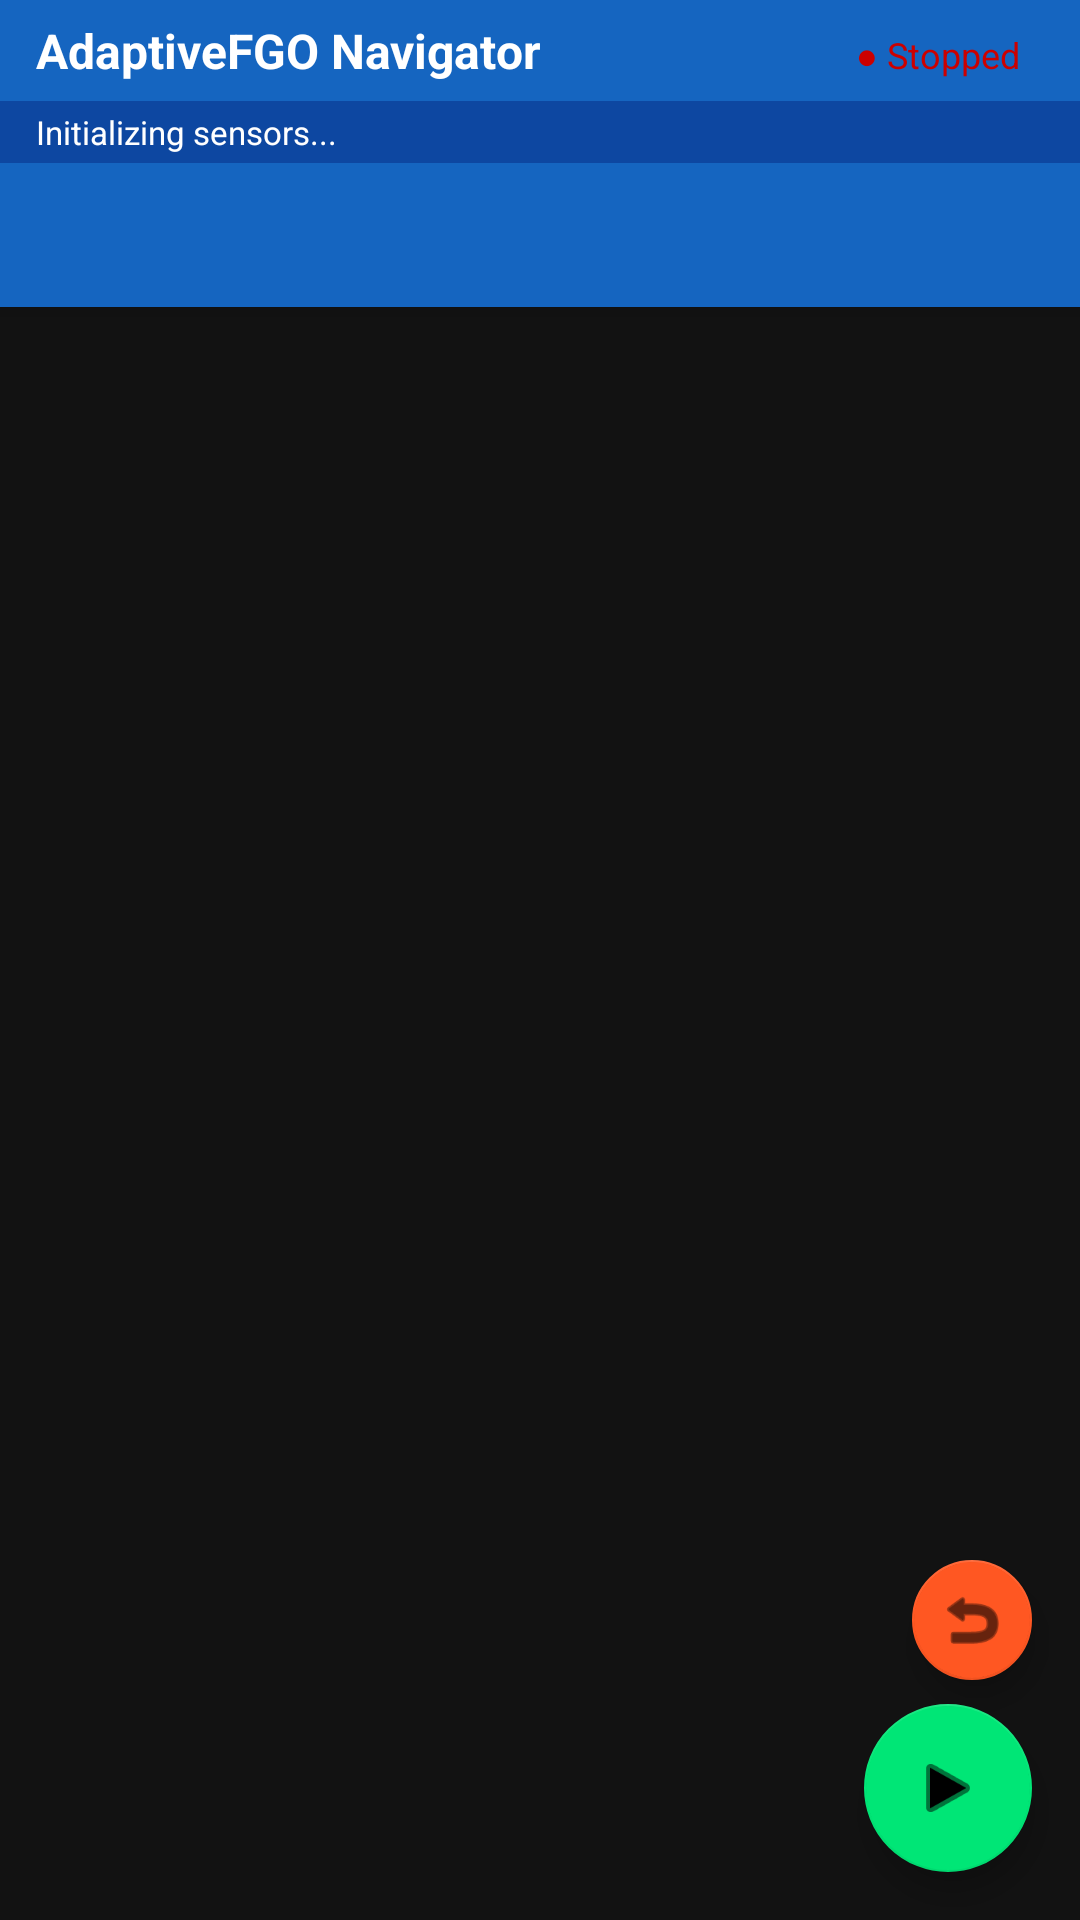

Icons on this 1080w x 1920h Android screen, each with its box as box=[x1, y1, x2, y2]:
play: box=[864, 1704, 1032, 1872]
revert: box=[912, 1560, 1032, 1680]
